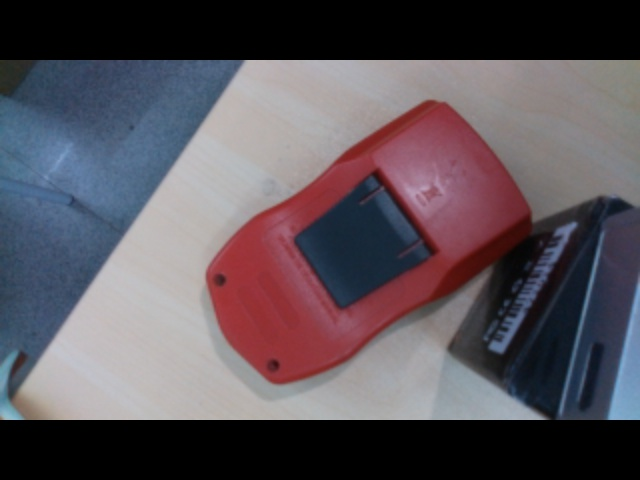Multimeter: (202, 99, 533, 389)
Screw holes: (263, 358, 283, 374), (214, 272, 229, 288)
